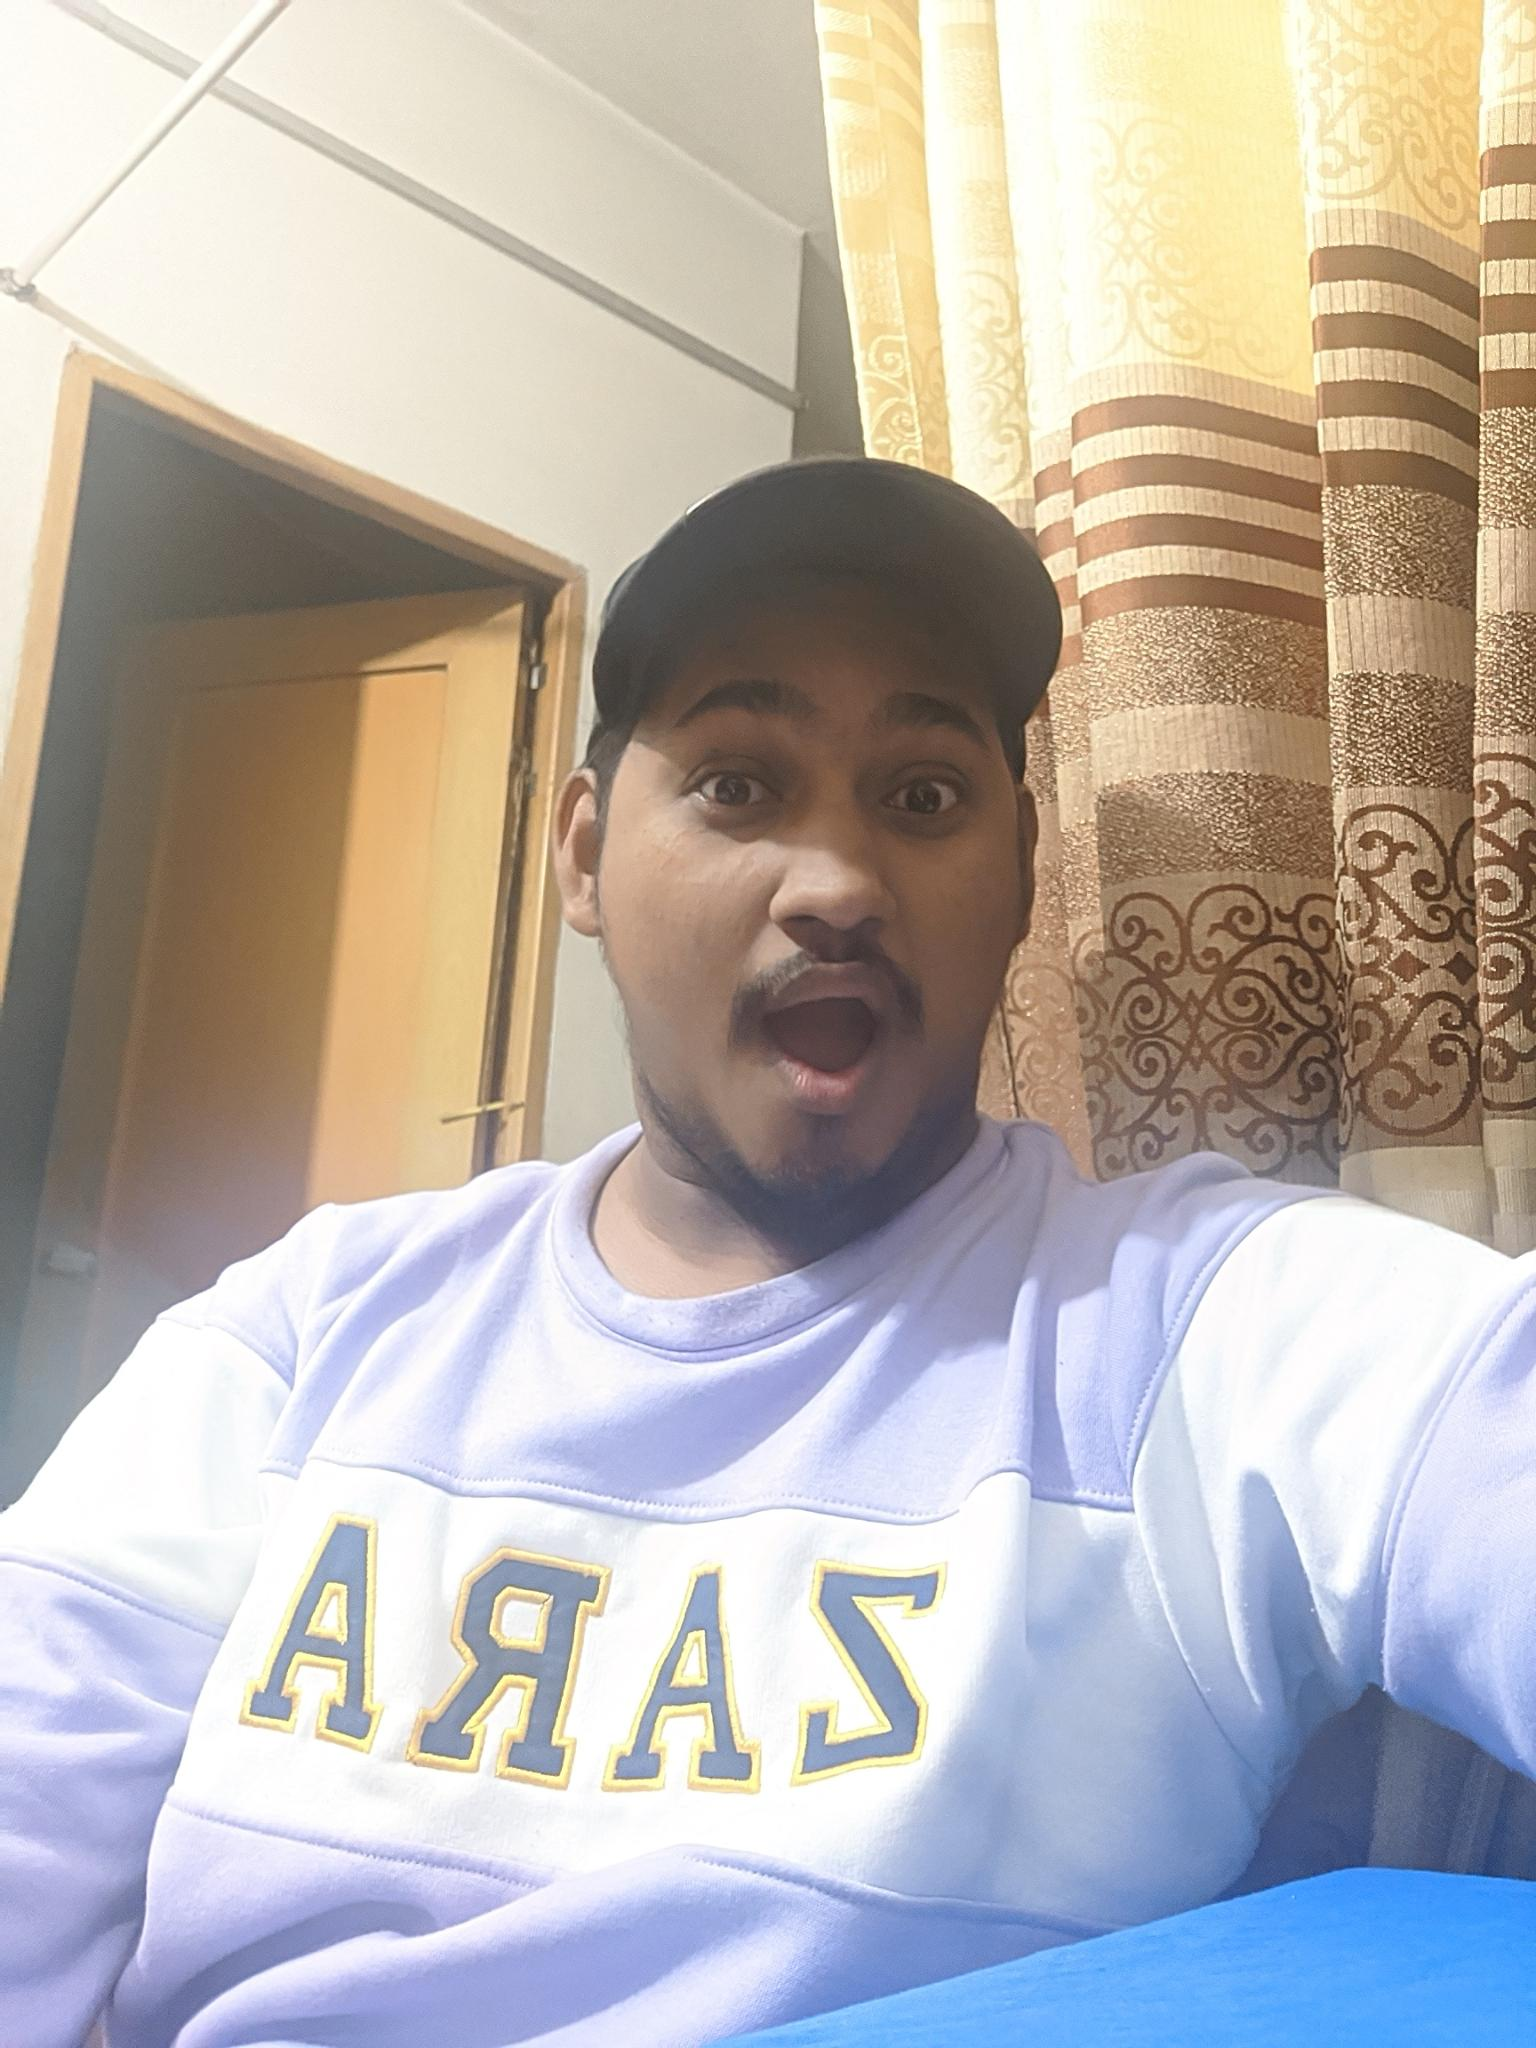Surprise: (632, 627, 1028, 1190)
